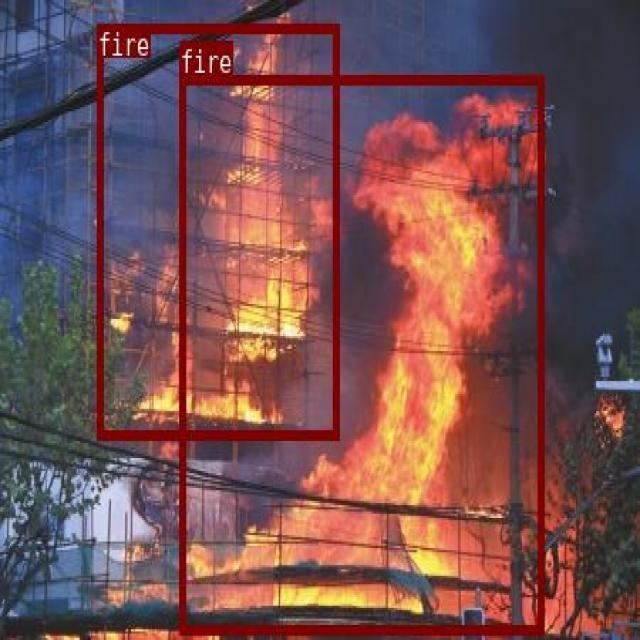fire: (179, 74, 543, 633), (96, 23, 337, 438)
